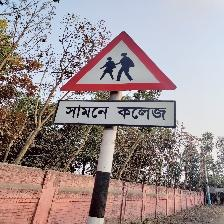College-in-front: (50, 23, 168, 134)
